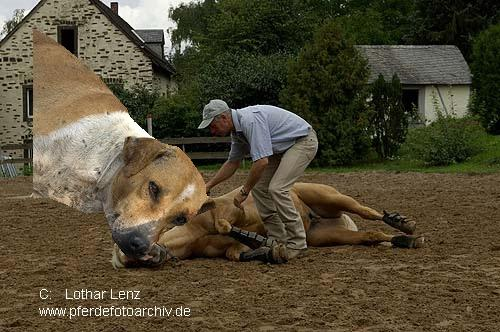tampered: (34, 29, 217, 258)
